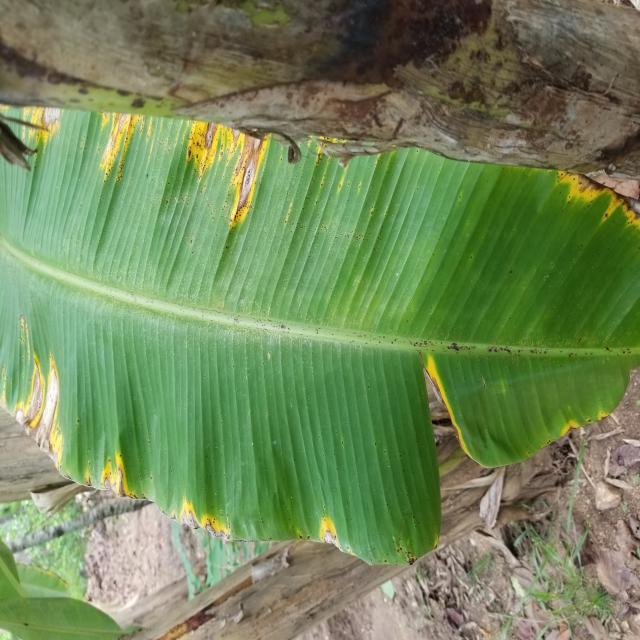Early_rust: (0, 76, 270, 227), (372, 333, 618, 465), (84, 444, 242, 559), (0, 340, 89, 486), (520, 158, 640, 259), (305, 518, 385, 578)
